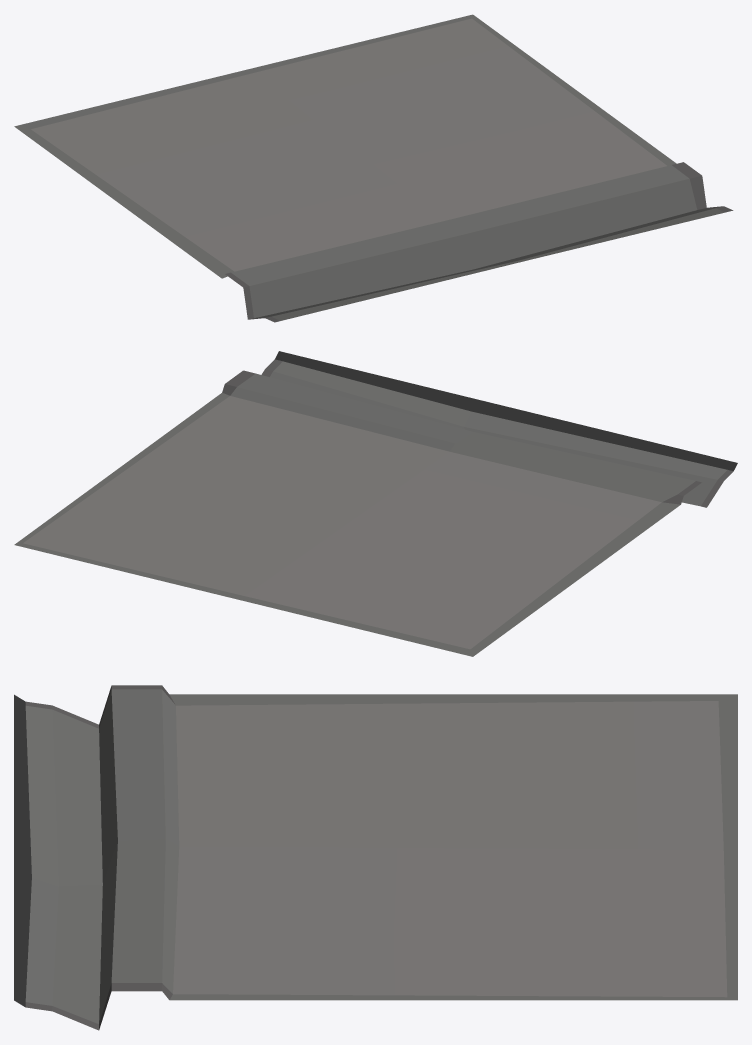
The model's file is SM_Gen_Env_Sidewalk_Edge_01.glb.
The picture shows the model from 3 angles, top to bottom: view 1: azimuth 30°, elevation 25°; view 2: azimuth 150°, elevation 25°; view 3: azimuth 270°, elevation 25°; orthographic projection. The views are drawn at different scales.
Visible parts, largest first — view 1: SM_Gen_Env_Sidewalk_Edge_012; view 2: SM_Gen_Env_Sidewalk_Edge_012; view 3: SM_Gen_Env_Sidewalk_Edge_012.
Boxes of the visible parts, <box> form: SM_Gen_Env_Sidewalk_Edge_012: <box>14,14,733,322</box>; SM_Gen_Env_Sidewalk_Edge_012: <box>14,351,737,656</box>; SM_Gen_Env_Sidewalk_Edge_012: <box>14,685,737,1030</box>.
Size of the model in its own units: 2.5 by 0.1818 by 2.5.
Materials: 1 (1 with a texture image).
